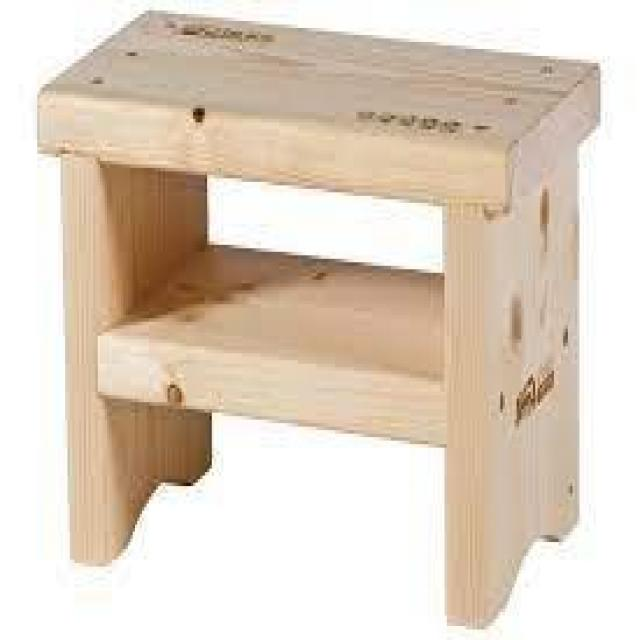chair: (29, 12, 592, 614)
